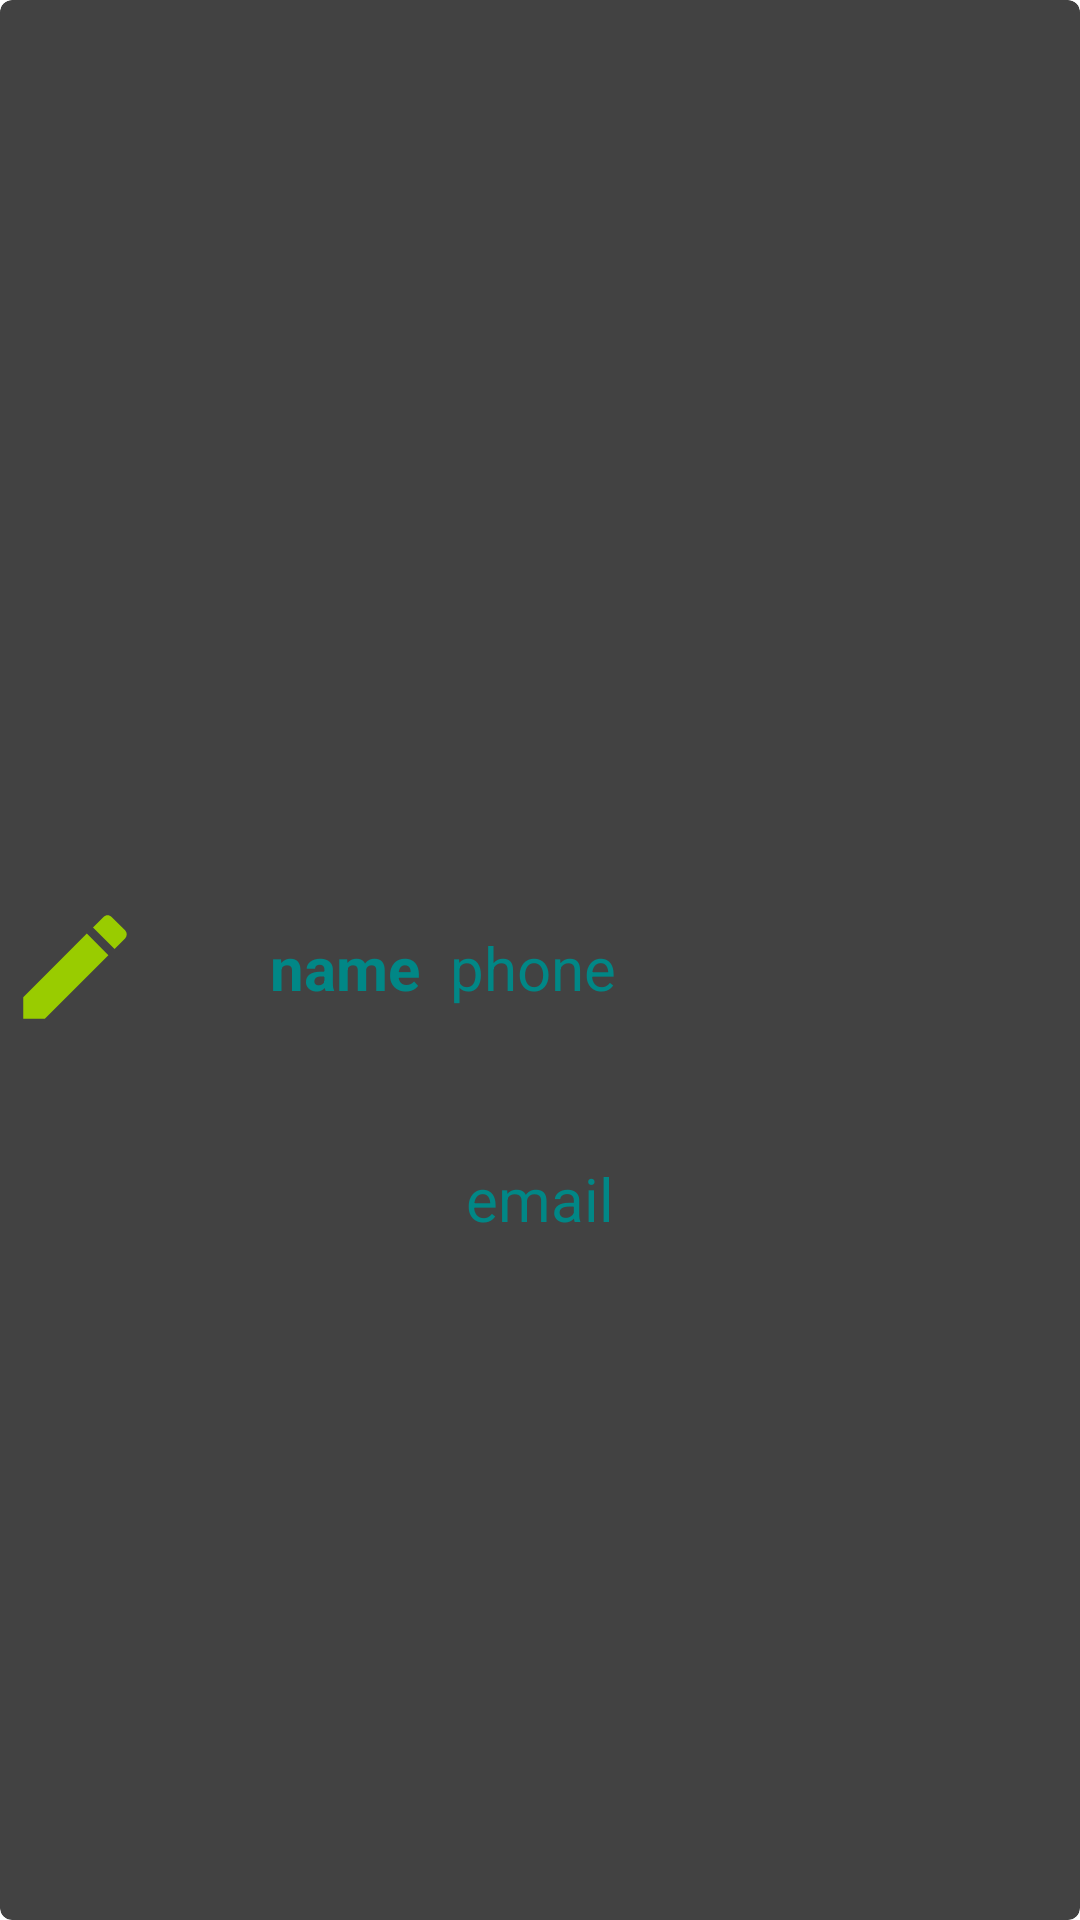

Locate icon controls on the screen. Image size 1080 × 1920, boxes as (x1, y1, x2, y2).
edit: (23, 915, 127, 1019)
